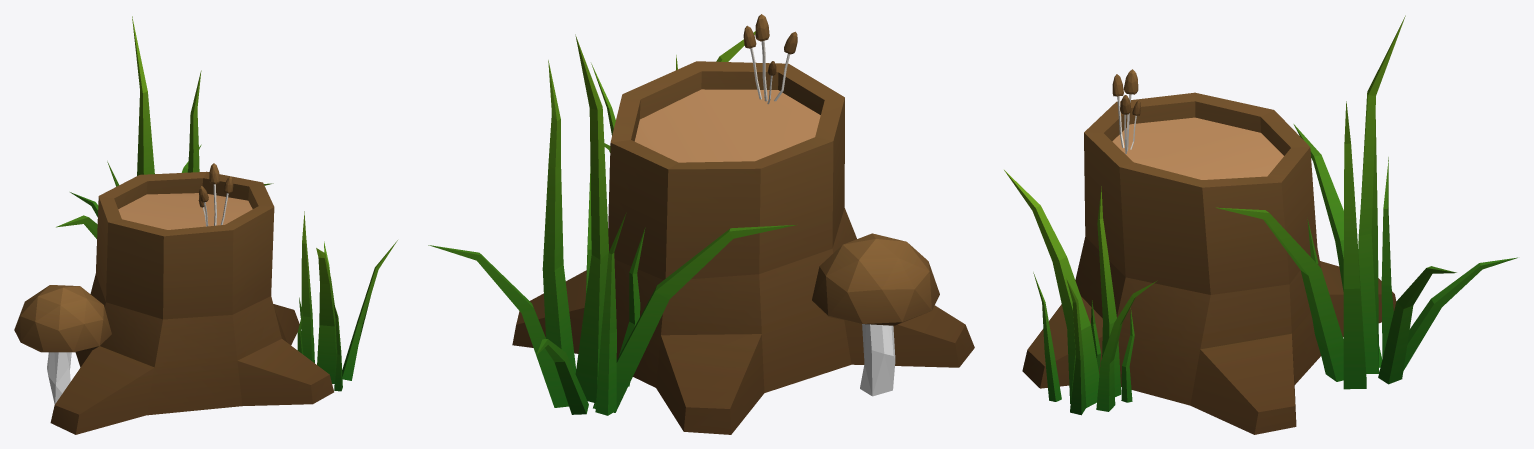
The model's file is Stump_04.fbx.
The picture shows the model from 3 angles, left to right: view 1: azimuth 30°, elevation 25°; view 2: azimuth 150°, elevation 25°; view 3: azimuth 270°, elevation 25°; orthographic projection. The views are drawn at different scales.
Parts seen in each view (by area): view 1: Stump_04; view 2: Stump_04; view 3: Stump_04.
Boxes of the visible parts, x1,y1,x2,y2 form: Stump_04: [14, 16, 397, 434]; Stump_04: [428, 14, 974, 434]; Stump_04: [1004, 15, 1517, 434].
Bounding box in the file's own units: 86.74 × 76.49 × 99.6.
